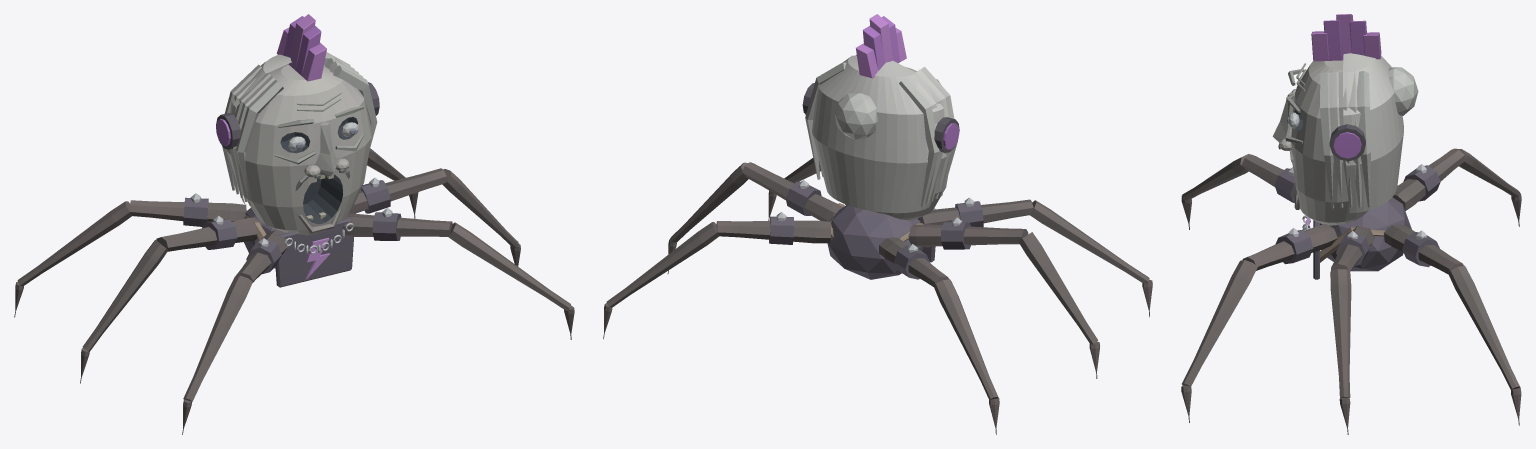
The model's file is SpiderMomPunk.glb.
3 views of the same model, side by side, from view 1: azimuth 30°, elevation 25°; view 2: azimuth 150°, elevation 25°; view 3: azimuth 270°, elevation 25° (orthographic). The views are drawn at different scales.
Parts seen in each view (by area): view 1: Head, Body, ArmL, LegR, ArmR, LegL; view 2: Head, Body, LegL, ArmR, LegR, ArmL; view 3: Head, Body, ArmL, LegL, LegR, ArmR.
Part boxes in pixels (x1=…): Head: x1=216, y1=14, x2=379, y2=235; Body: x1=80, y1=168, x2=520, y2=383; ArmL: x1=343, y1=208, x2=574, y2=339; LegR: x1=14, y1=193, x2=246, y2=317; ArmR: x1=182, y1=230, x2=290, y2=434; LegL: x1=367, y1=148, x2=418, y2=218; Head: x1=802, y1=14, x2=959, y2=220; Body: x1=667, y1=162, x2=1099, y2=378; LegL: x1=603, y1=212, x2=830, y2=339; ArmR: x1=920, y1=197, x2=1152, y2=317; LegR: x1=879, y1=237, x2=999, y2=434; ArmL: x1=768, y1=158, x2=846, y2=220; Head: x1=1272, y1=14, x2=1418, y2=225; Body: x1=1302, y1=197, x2=1411, y2=434; ArmL: x1=1181, y1=223, x2=1337, y2=422; LegL: x1=1384, y1=224, x2=1521, y2=425; LegR: x1=1392, y1=148, x2=1521, y2=226; ArmR: x1=1181, y1=154, x2=1296, y2=229.
Bounding box in the file's own units: 6.21 × 4.23 × 4.11.
